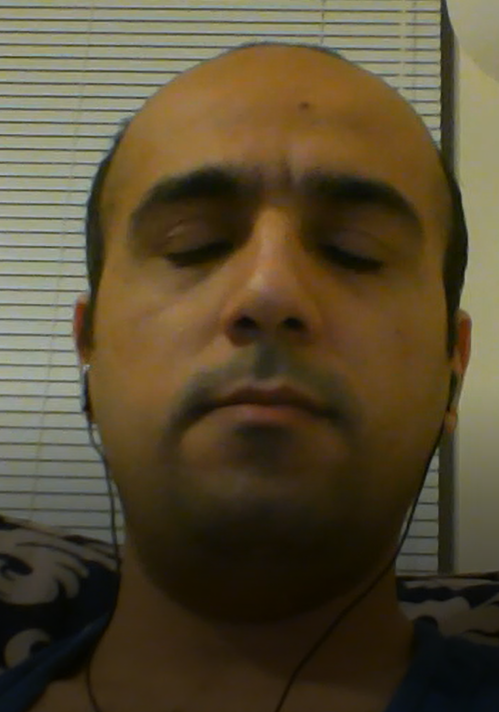Sleeping: (130, 163, 433, 296)
